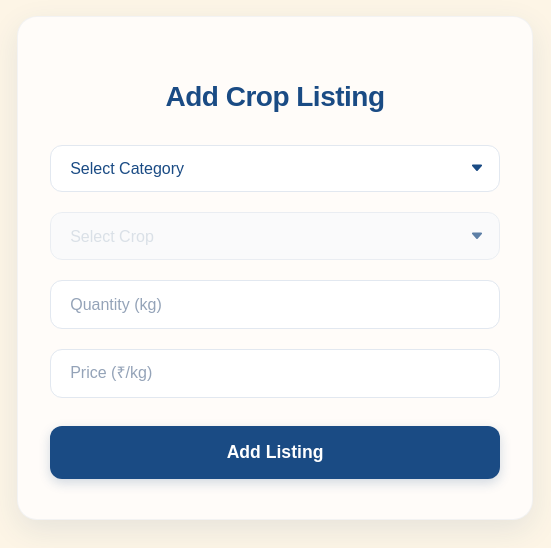
Test: Functional: CropListingForm Component › TC002: enables crop dropdown after category selection
This screenshot has width=551, height=548.
Expected: the 2nd dropdown is disabled, left=50, top=212, right=500, bottom=260
# Select category
Select "Food Grains / Cereals" in the 1st dropdown: (275, 168) left=50, top=144, right=500, bottom=192
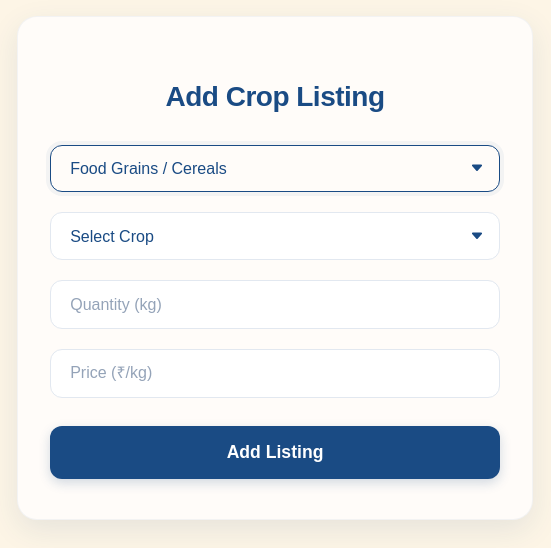
Now the 2nd dropdown is enabled, box left=50, top=212, right=500, bottom=260
